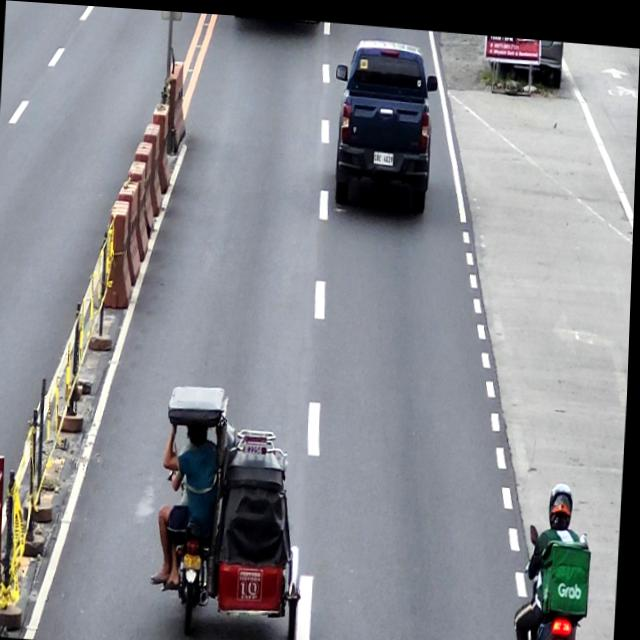Car: (332, 31, 440, 209)
License-Plate: (374, 144, 396, 161), (186, 550, 205, 567)
Motorcycle: (523, 514, 592, 640)
Tricycle: (160, 380, 316, 640)
